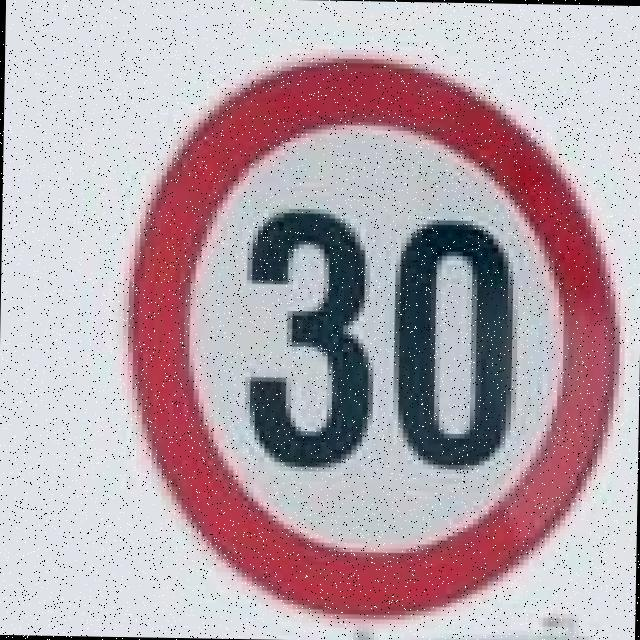Ograniczenie predkosci do 30: (123, 50, 619, 614)
